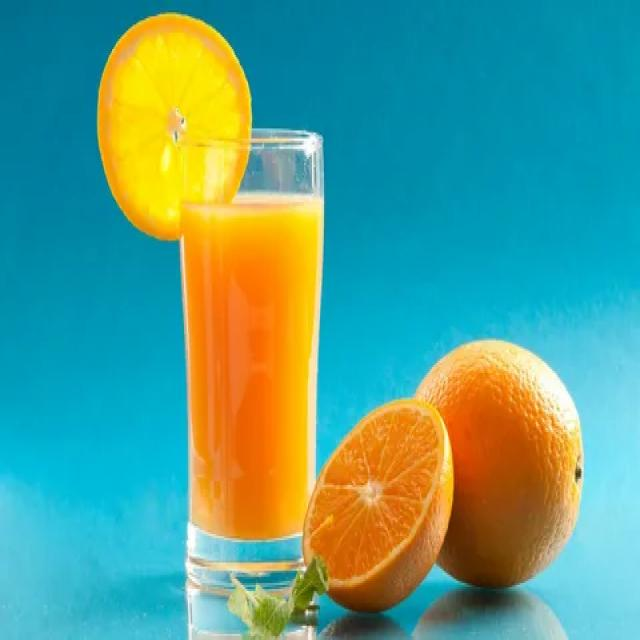orange: (417, 330, 595, 606)
